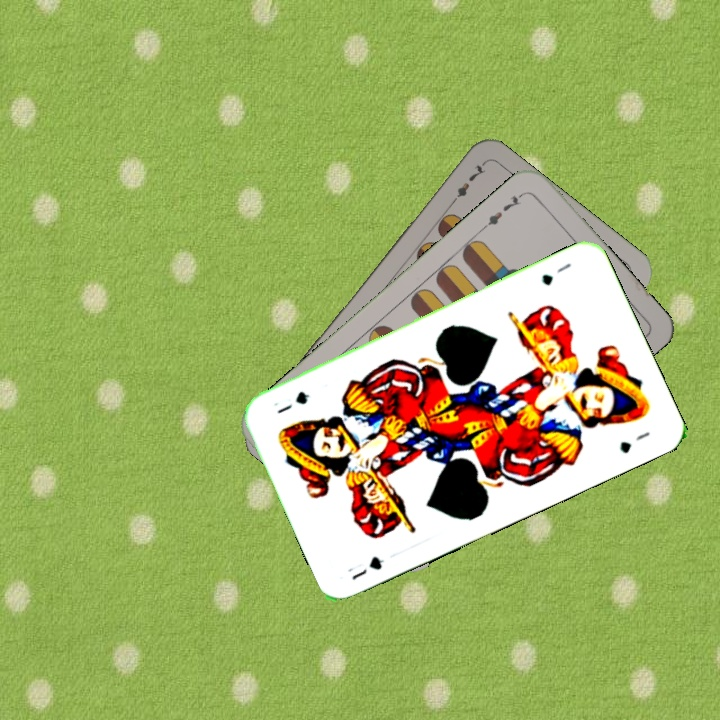E7: (445, 159, 489, 209), (479, 188, 528, 232)
GU: (343, 552, 387, 583), (537, 258, 574, 288)
